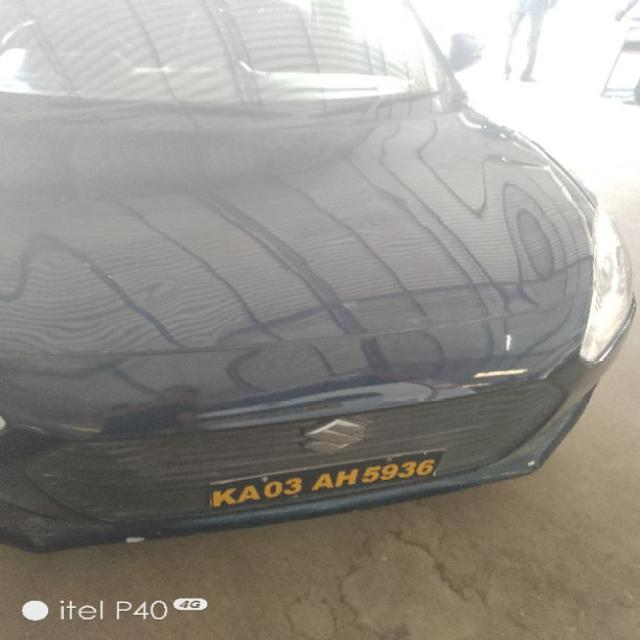license_plate: (1, 0, 636, 555), (205, 446, 447, 510)
